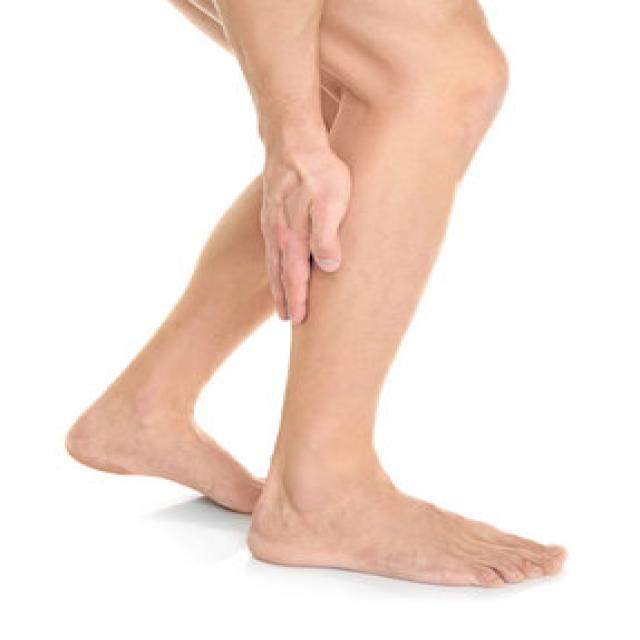Normal: (156, 41, 460, 428)
